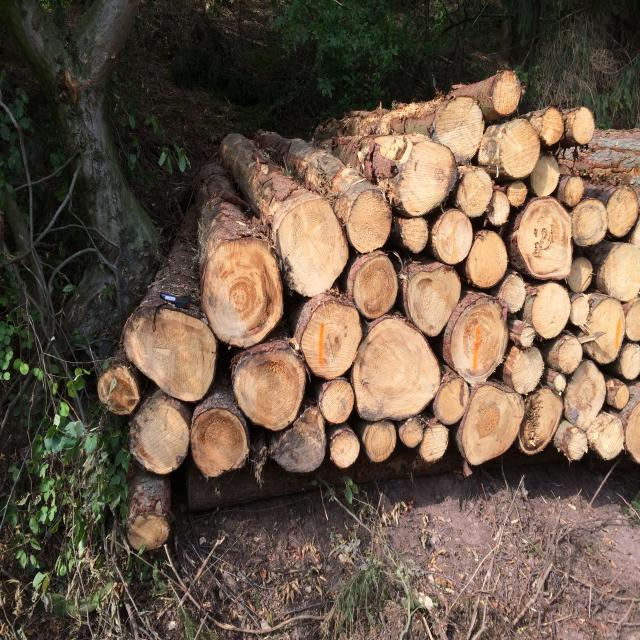wood-log: (352, 315, 440, 419), (126, 308, 220, 402), (200, 241, 282, 347), (278, 198, 352, 295), (233, 339, 307, 429), (447, 298, 512, 386), (460, 383, 526, 466), (296, 302, 362, 382), (513, 200, 575, 281), (394, 142, 458, 218), (130, 393, 190, 473), (189, 408, 248, 478), (403, 267, 460, 339), (271, 406, 327, 472), (435, 97, 486, 164), (350, 253, 398, 320), (342, 192, 392, 254), (563, 362, 606, 432), (496, 120, 542, 179), (529, 281, 574, 338), (584, 295, 624, 358), (466, 230, 509, 288), (433, 210, 476, 266), (100, 365, 144, 419), (602, 243, 640, 302), (505, 344, 547, 393), (456, 165, 495, 217), (125, 515, 172, 557), (572, 198, 608, 246), (588, 413, 624, 461), (434, 376, 470, 424), (318, 378, 355, 424), (607, 187, 640, 238), (491, 70, 525, 116), (528, 154, 562, 198), (365, 422, 398, 462), (496, 272, 528, 312), (555, 425, 588, 463), (398, 218, 432, 254), (554, 335, 585, 373), (422, 424, 452, 463), (332, 429, 362, 468), (569, 106, 596, 145), (540, 109, 566, 147), (625, 397, 640, 462), (560, 175, 588, 206), (620, 343, 640, 380), (402, 418, 426, 448), (625, 297, 640, 343), (507, 181, 530, 206)
